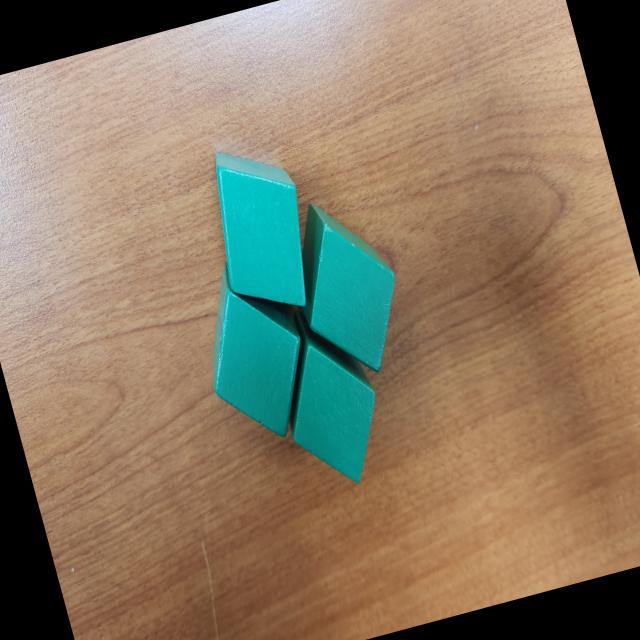green: (184, 246, 326, 452), (276, 186, 419, 387), (264, 306, 397, 497), (195, 133, 328, 324)
